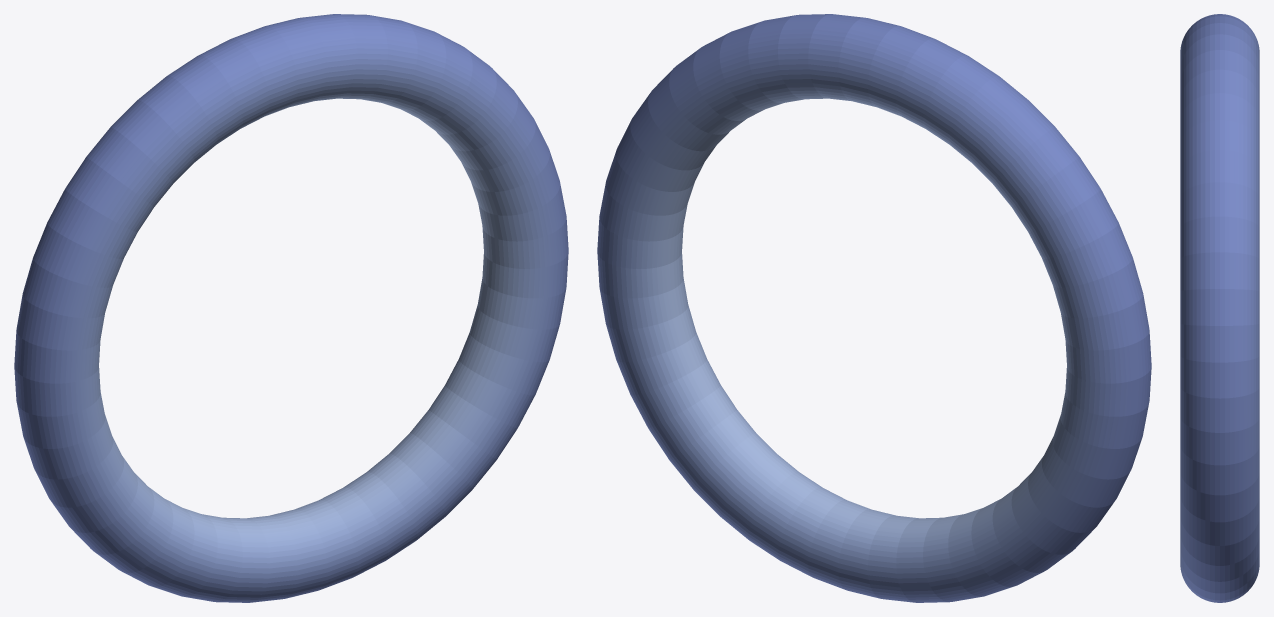
The picture shows the model from 3 angles, left to right: view 1: azimuth 30°, elevation 25°; view 2: azimuth 150°, elevation 25°; view 3: azimuth 270°, elevation 25°; orthographic projection. The views are drawn at different scales.
Parts seen in each view (by area): view 1: world; view 2: world; view 3: world.
Boxes of the visible parts, x1,y1,x2,y2 form: world: (14,14,568,602); world: (597,14,1151,602); world: (1180,14,1259,602).
Bounding box in the file's own units: 24.67 × 24.62 × 3.33.
